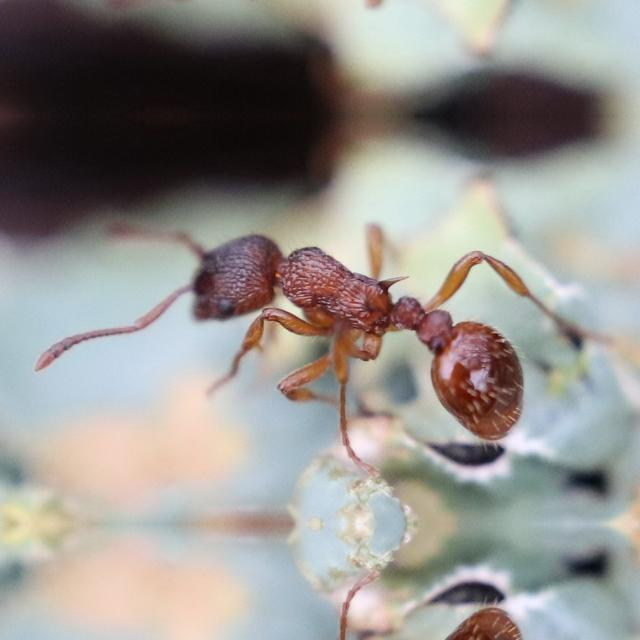Myrmica: (137, 162, 565, 448), (137, 0, 565, 66)
